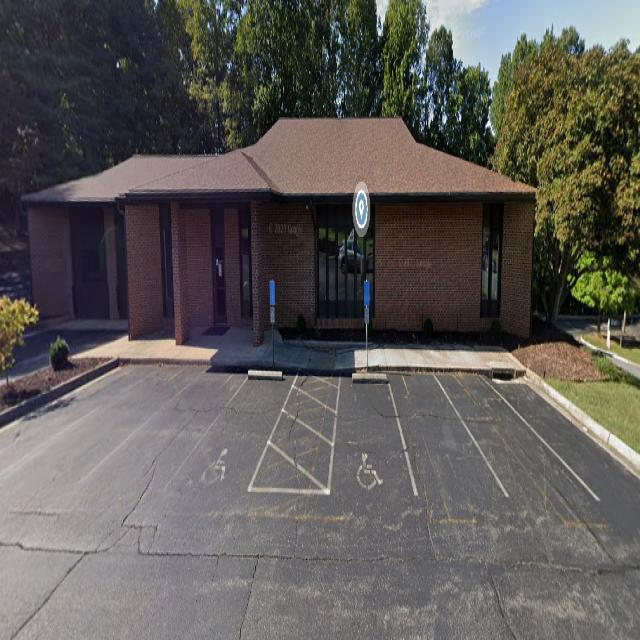House: (19, 118, 536, 338)
